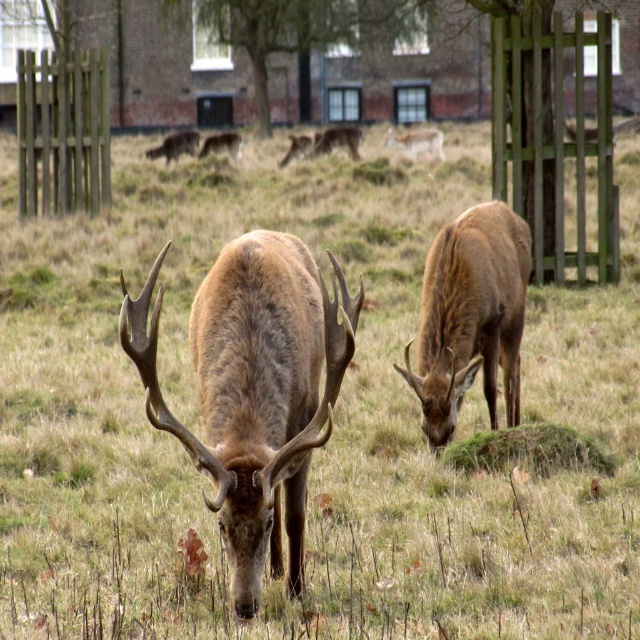Deer: (118, 229, 366, 622), (402, 201, 536, 476)
